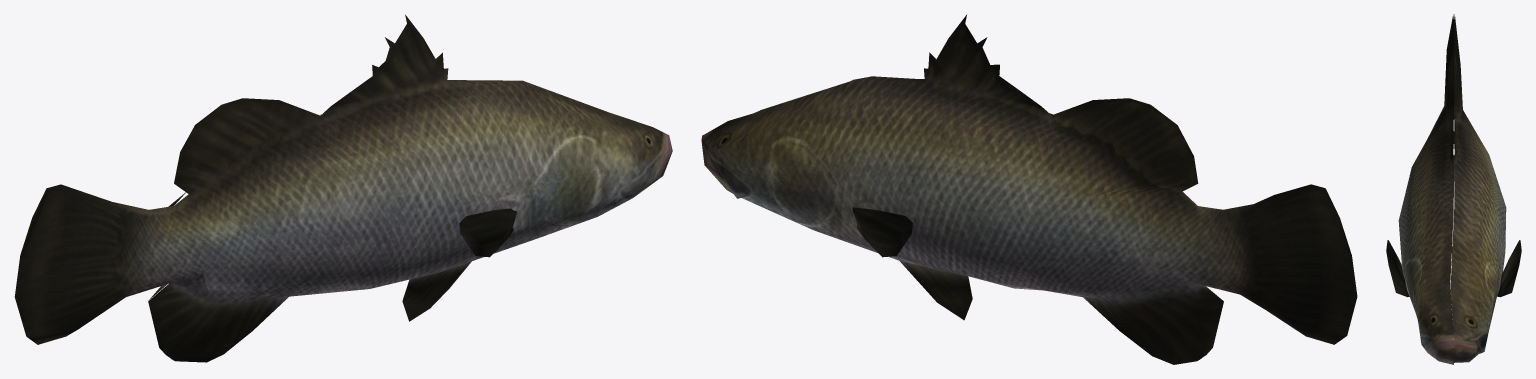
File: school-fish.glb
3 views of the same model, side by side, from view 1: azimuth 30°, elevation 25°; view 2: azimuth 150°, elevation 25°; view 3: azimuth 270°, elevation 25° (orthographic). The views are drawn at different scales.
Visible parts, largest first — view 1: BarramundiFish; view 2: BarramundiFish; view 3: BarramundiFish.
Boxes of the visible parts, x1,y1,x2,y2 form: BarramundiFish: (14,14,672,362); BarramundiFish: (701,15,1357,364); BarramundiFish: (1386,14,1521,364).
Bounding box in the file's own units: 0.4992 × 0.2248 × 0.1097.
Materials: 1 (1 with a texture image).
